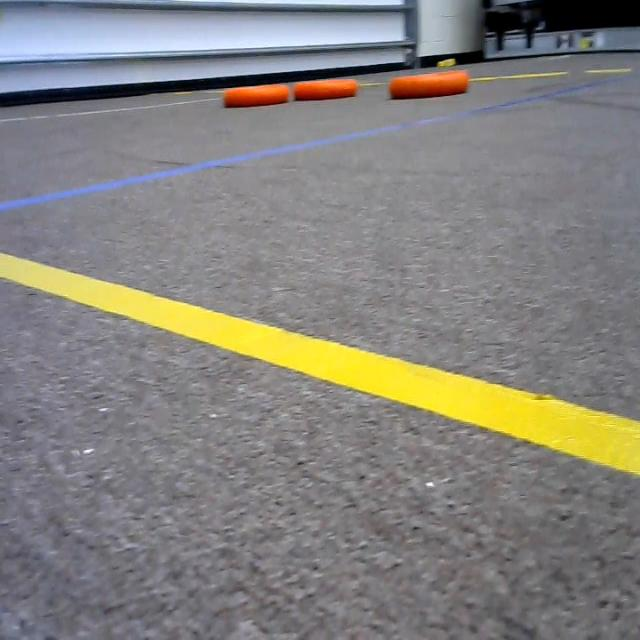note: (388, 61, 477, 103), (292, 69, 366, 105), (220, 79, 291, 116)
